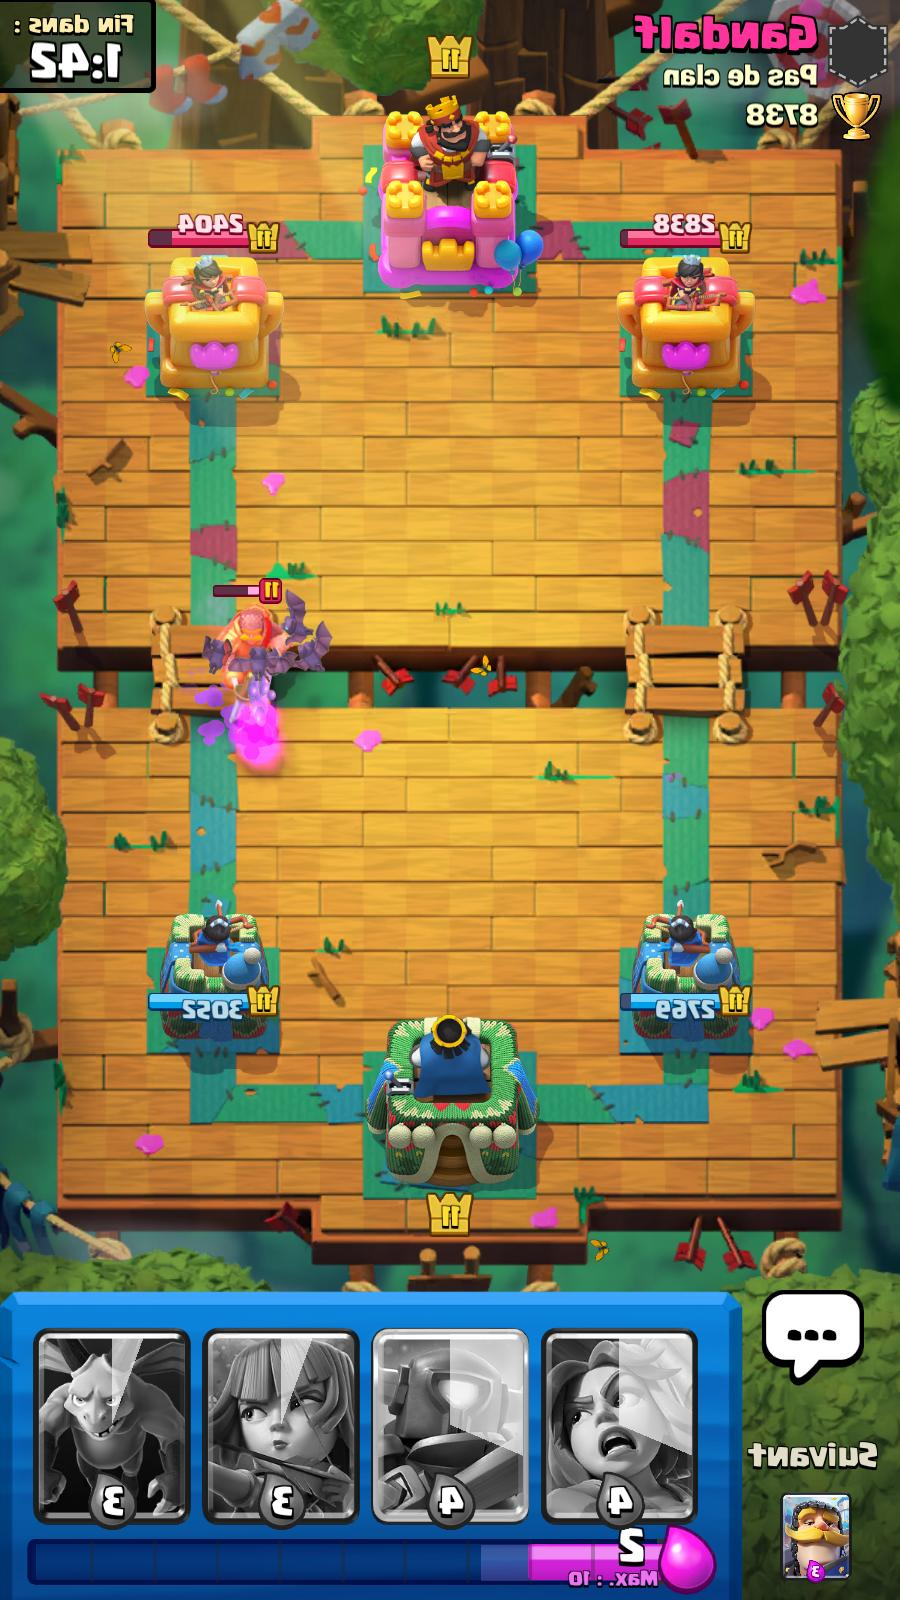bat: (226, 631, 297, 686), (282, 620, 333, 679), (279, 588, 313, 647), (199, 631, 235, 673)
